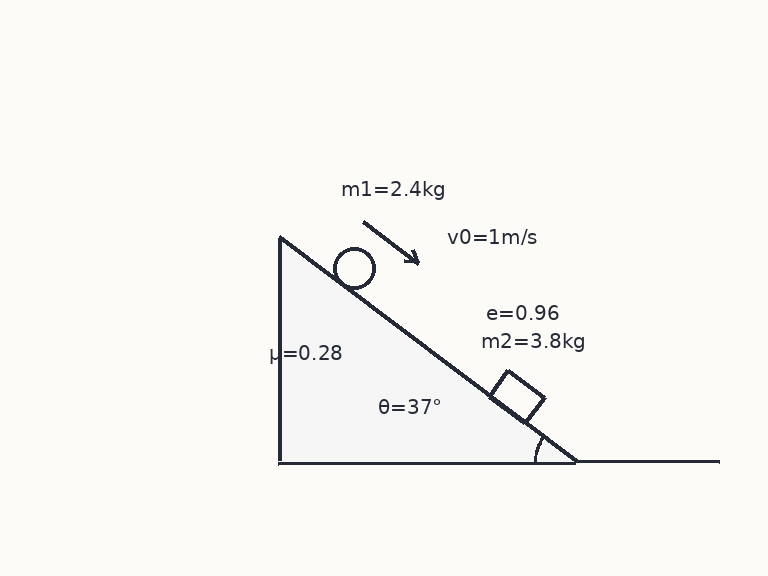ball: (331, 245, 377, 291)
block: (487, 368, 546, 425)
ramp: (277, 236, 577, 463)
